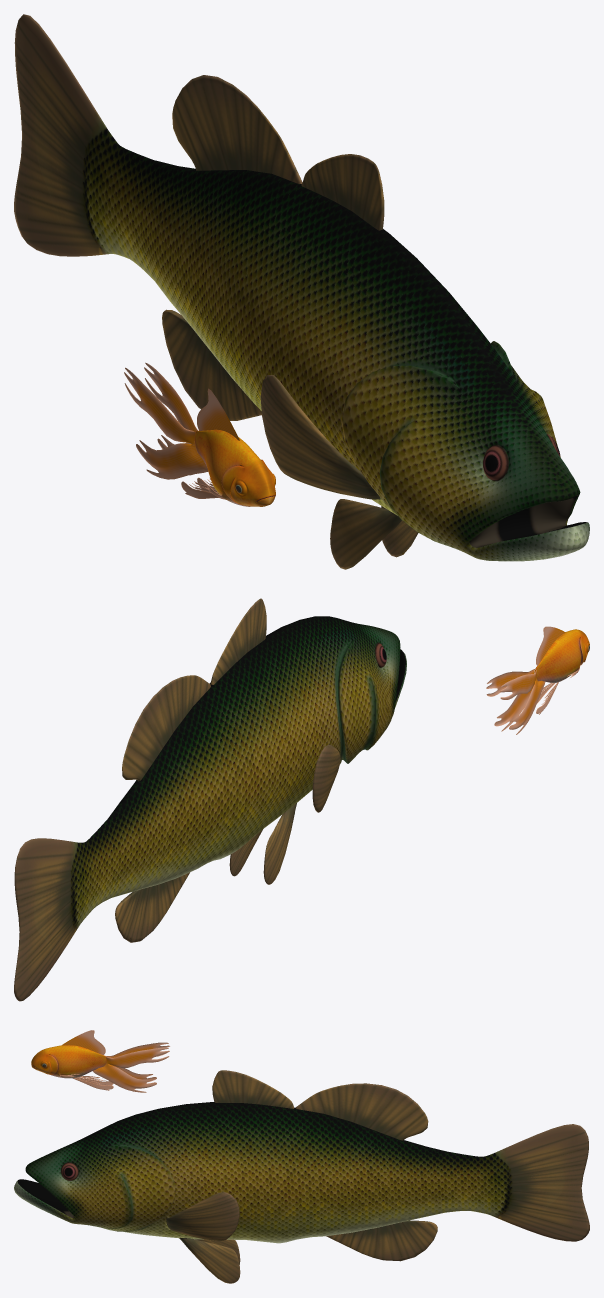
File: lowpolyFishPack_edit_for_FBX.fbx
3 renders of one model, top to bottom at view 1: azimuth 30°, elevation 25°; view 2: azimuth 150°, elevation 25°; view 3: azimuth 270°, elevation 25°, orthographic. The views are drawn at different scales.
Parts seen in each view (by area): view 1: lowpolyFishPack2, lowpolyFishPack3; view 2: lowpolyFishPack2, lowpolyFishPack3; view 3: lowpolyFishPack2, lowpolyFishPack3.
Part boxes in pixels (x1,y1,x2,y2): lowpolyFishPack2: (14,14,589,569); lowpolyFishPack3: (124,362,275,506); lowpolyFishPack2: (14,598,406,1001); lowpolyFishPack3: (486,626,589,734); lowpolyFishPack2: (14,1070,589,1283); lowpolyFishPack3: (31,1030,169,1092).
Size of the model in its own units: 210 by 196 by 495.
